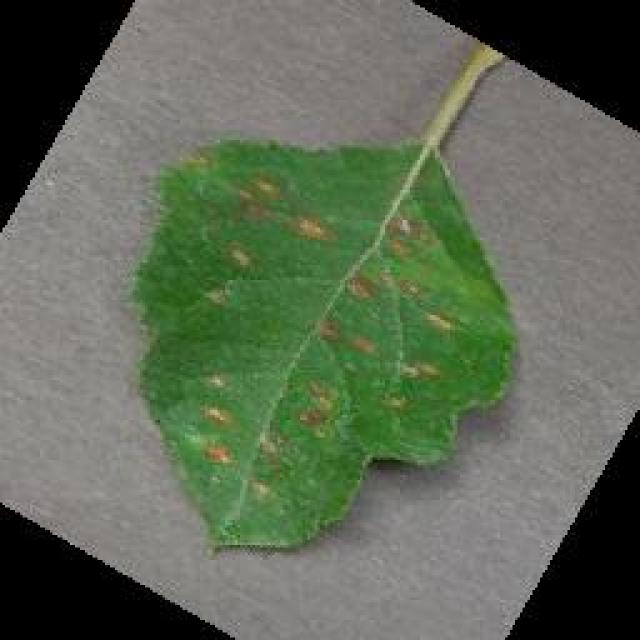Apple___Cedar_apple_rust: (118, 133, 521, 563)
